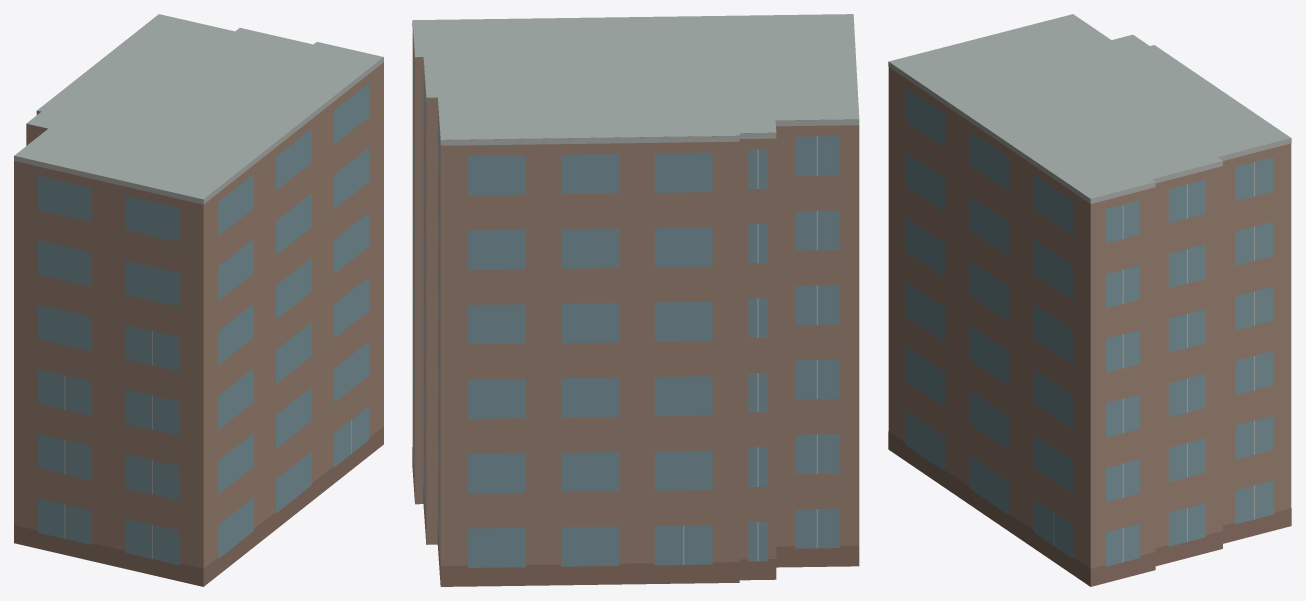
File: survey-upis-33008271.glb
3 renders of one model, left to right at view 1: azimuth 30°, elevation 25°; view 2: azimuth 150°, elevation 25°; view 3: azimuth 270°, elevation 25°, orthographic. The views are drawn at different scales.
Parts seen in each view (by area): view 1: survey-upis-33008271.tmp; view 2: survey-upis-33008271.tmp; view 3: survey-upis-33008271.tmp.
Part boxes in pixels (<box>): survey-upis-33008271.tmp: <box>14,14,383,586</box>; survey-upis-33008271.tmp: <box>412,14,859,586</box>; survey-upis-33008271.tmp: <box>888,14,1291,586</box>.
Bounding box in the file's own units: 18.72 × 18.3 × 17.24.
